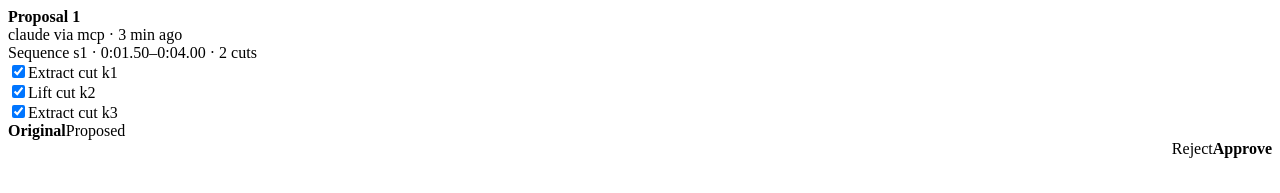
it: 承認と却下 › Reject を送り、失敗の理由は上に出る
Click the button "Reject" at (1192, 149), box [1172,140,1213,158]
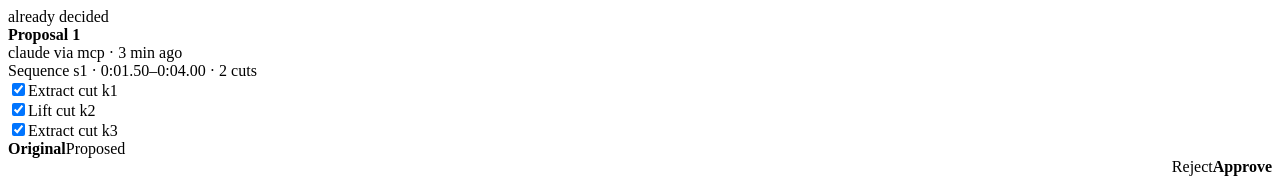
Now the message with class "mm-review-error" reads "already decided", box [8,8,109,25]
